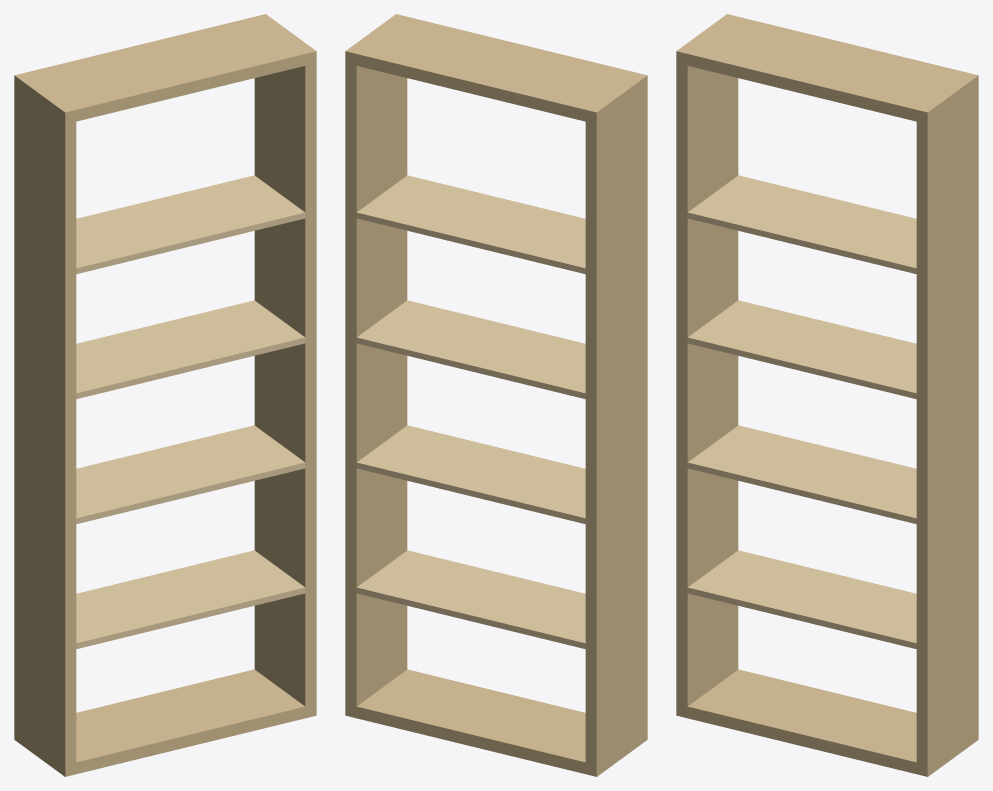
File: ikea-billy.glb
The picture shows the model from 3 angles, left to right: view 1: azimuth 30°, elevation 25°; view 2: azimuth 150°, elevation 25°; view 3: azimuth 330°, elevation 25°; orthographic projection.
Size of the model in its own units: 0.8 by 2.02 by 0.28.
